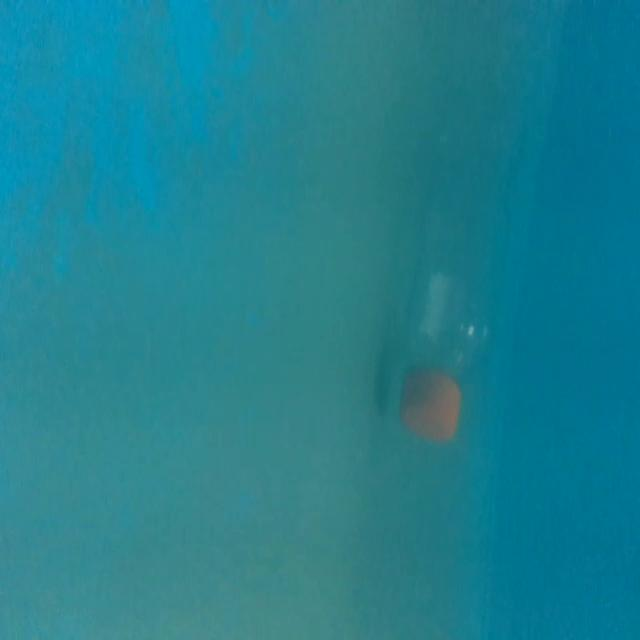plastic bottle: (382, 58, 529, 450)
